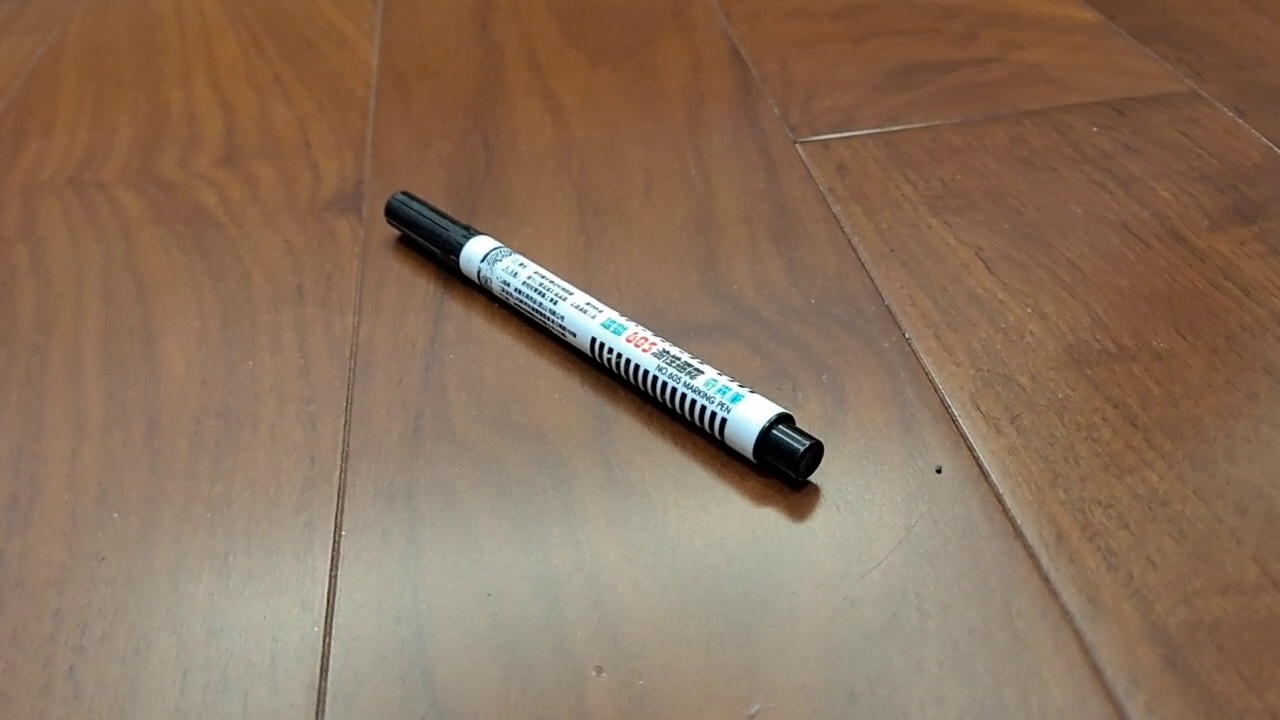pen: (384, 190, 825, 482)
